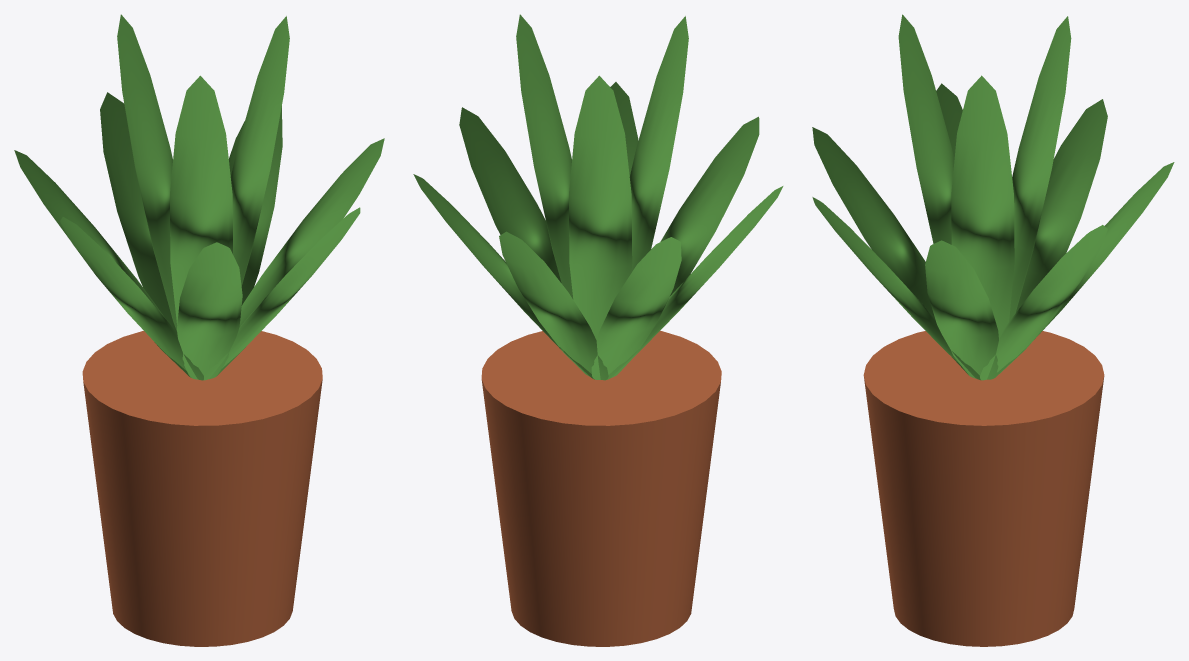
Rendered from pot_plant.glb.
3 views of the same model, side by side, from view 1: azimuth 30°, elevation 25°; view 2: azimuth 150°, elevation 25°; view 3: azimuth 270°, elevation 25° (orthographic).
Visible parts, largest first — view 1: Pot, Leaves; view 2: Pot, Leaves; view 3: Pot, Leaves.
Part boxes in pixels (x1,y1,x2,y2): Pot: (82,331,322,646); Leaves: (14,14,384,380); Pot: (481,330,721,646); Leaves: (413,14,783,380); Pot: (863,331,1104,646); Leaves: (812,14,1174,380).
Bounding box in the file's own units: 0.4322 × 0.7363 × 0.4213.
